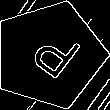P_SW: (18, 24, 80, 86)
